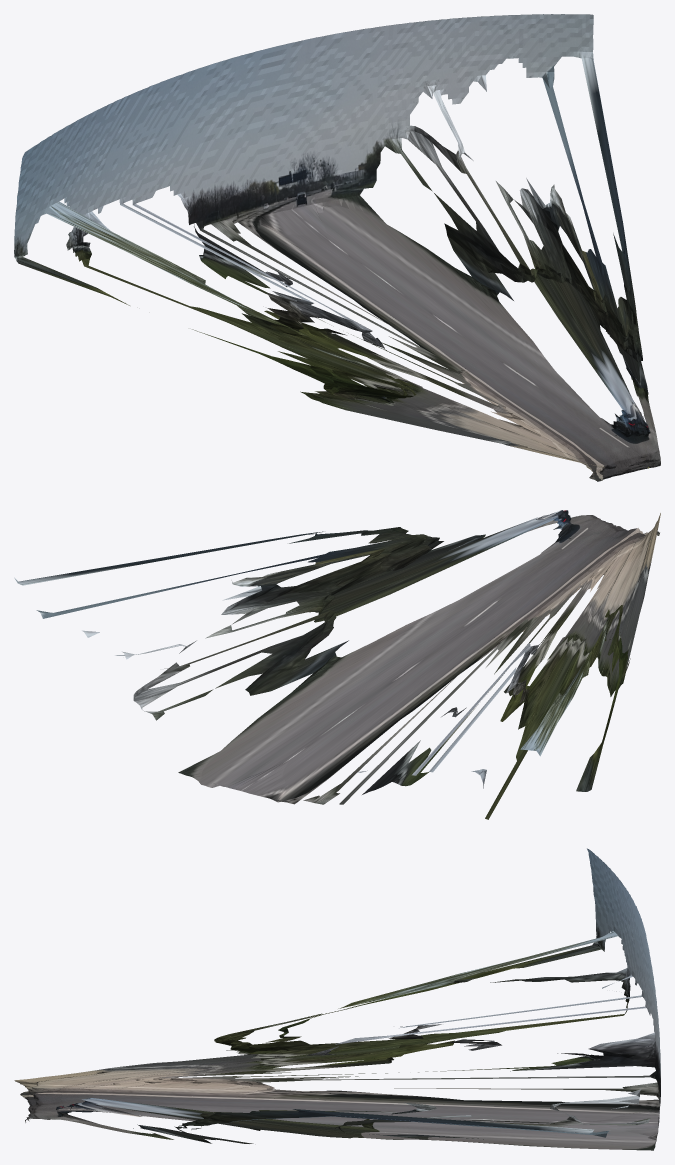
3 renders of one model, top to bottom at view 1: azimuth 30°, elevation 25°; view 2: azimuth 150°, elevation 25°; view 3: azimuth 270°, elevation 25°, orthographic. The views are drawn at different scales.
Visible parts, largest first — view 1: defaultobject; view 2: defaultobject; view 3: defaultobject.
Boxes of the visible parts, left/top/right/bottom form: defaultobject: left=14, top=14, right=660, bottom=481; defaultobject: left=14, top=510, right=660, bottom=819; defaultobject: left=14, top=848, right=660, bottom=1150.
Bounding box in the file's own units: 40.98 × 12.08 × 45.16.
Materials: 1 (1 with a texture image).
